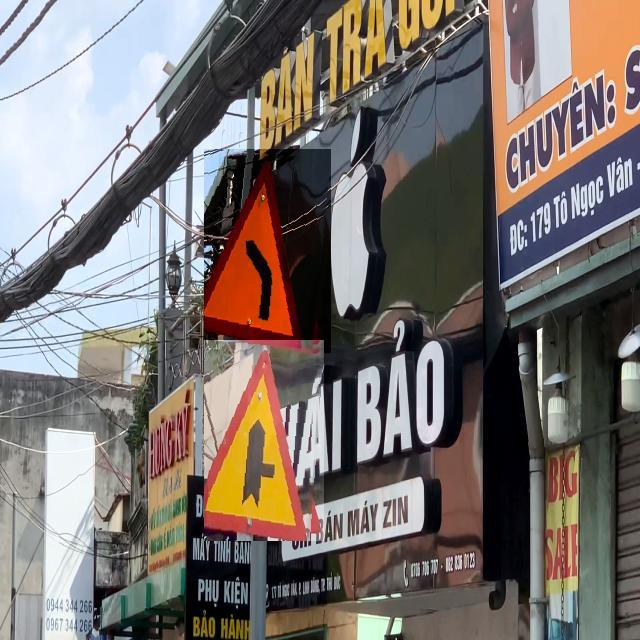W-201a: (204, 150, 331, 354)
W-207b: (204, 340, 324, 541)
